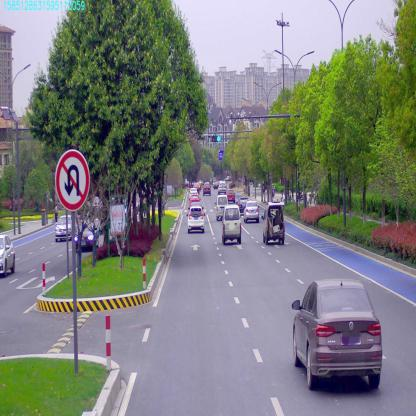traffic-light: (210, 135, 221, 141)
